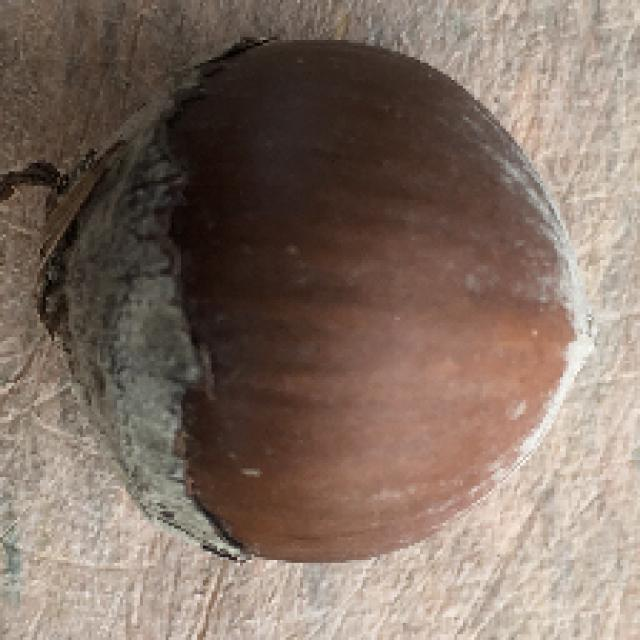damagedHazelnut: (38, 30, 596, 568)
